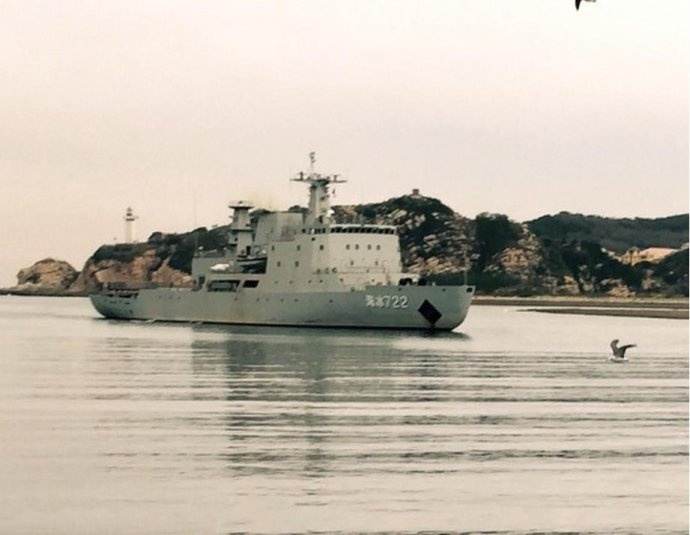warship: (89, 132, 480, 334)
